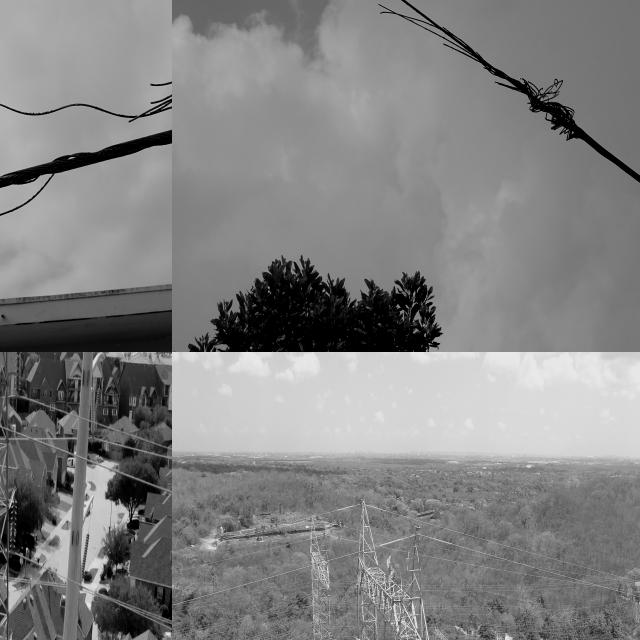杆塔: (351, 498, 456, 640), (298, 511, 342, 640)
正常电缆: (35, 555, 172, 639), (21, 426, 172, 498), (33, 390, 172, 458)
正常绝缘子: (7, 490, 18, 559), (11, 352, 23, 405), (354, 582, 361, 640), (381, 613, 389, 640)
电缆破损: (349, 0, 600, 160), (0, 54, 172, 272)
